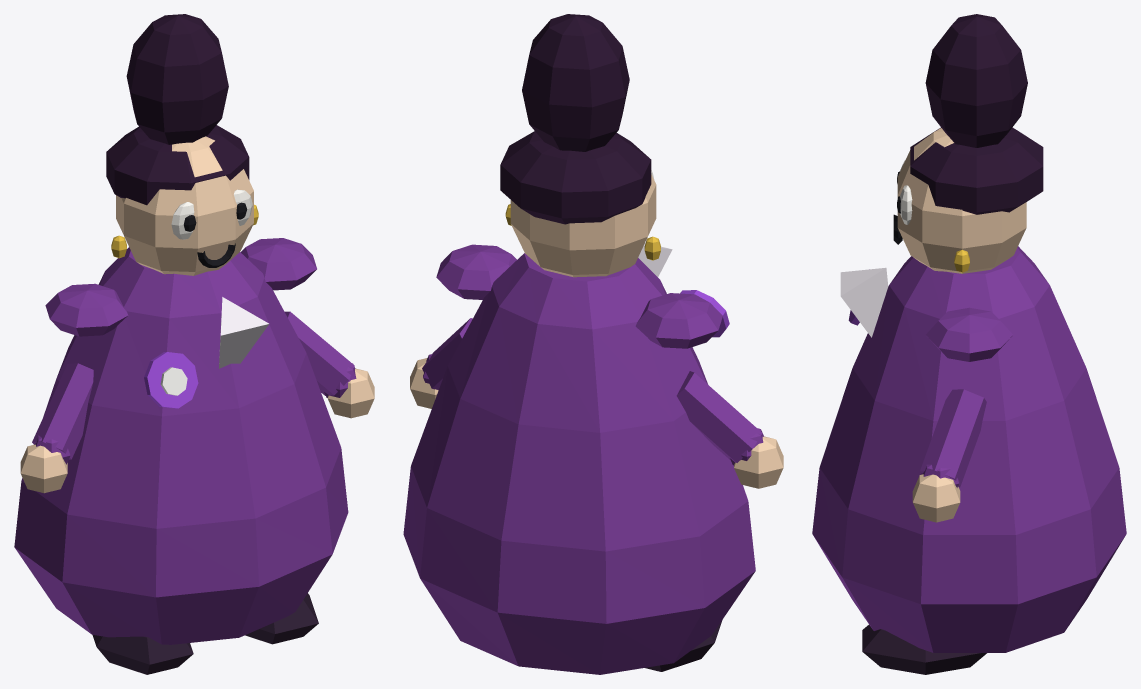
Rendered from npc_candidata.glb.
3 renders of one model, left to right at view 1: azimuth 30°, elevation 25°; view 2: azimuth 150°, elevation 25°; view 3: azimuth 270°, elevation 25°, orthographic. The views are drawn at different scales.
Visible parts, largest first — view 1: body_malvon_suit, head_malvon_hair, head_skin_crema, arms_malvon_suit, legs_malvon_heels, arms_skin_crema, body_malvon_blouse, props_rosette_purple, face_white, face_black, props_rosette_white; view 2: body_malvon_suit, head_malvon_hair, head_skin_crema, arms_malvon_suit, arms_skin_crema, legs_malvon_heels; view 3: body_malvon_suit, head_malvon_hair, head_skin_crema, arms_malvon_suit, legs_malvon_heels, body_malvon_blouse, arms_skin_crema.
Boxes of the visible parts, <box> form: body_malvon_suit: <box>14,238,348,644</box>; head_malvon_hair: <box>106,14,249,205</box>; head_skin_crema: <box>116,136,253,275</box>; arms_malvon_suit: <box>32,311,356,464</box>; legs_malvon_heels: <box>92,593,318,674</box>; arms_skin_crema: <box>20,368,374,493</box>; body_malvon_blouse: <box>219,297,268,368</box>; props_rosette_purple: <box>144,352,198,408</box>; face_white: <box>171,189,252,239</box>; face_black: <box>183,202,247,267</box>; props_rosette_white: <box>160,367,187,395</box>; body_malvon_suit: <box>403,244,755,674</box>; head_malvon_hair: <box>500,14,651,224</box>; head_skin_crema: <box>510,174,656,277</box>; arms_malvon_suit: <box>422,318,763,465</box>; arms_skin_crema: <box>410,358,783,488</box>; legs_malvon_heels: <box>645,620,722,671</box>; body_malvon_suit: <box>812,246,1126,652</box>; head_malvon_hair: <box>910,14,1043,214</box>; head_skin_crema: <box>897,128,1026,273</box>; arms_malvon_suit: <box>920,389,986,487</box>; legs_malvon_heels: <box>862,625,986,674</box>; body_malvon_blouse: <box>840,267,888,337</box>; arms_skin_crema: <box>912,474,960,522</box>.
Size of the model in its own units: 1.13 by 1.87 by 0.86.
